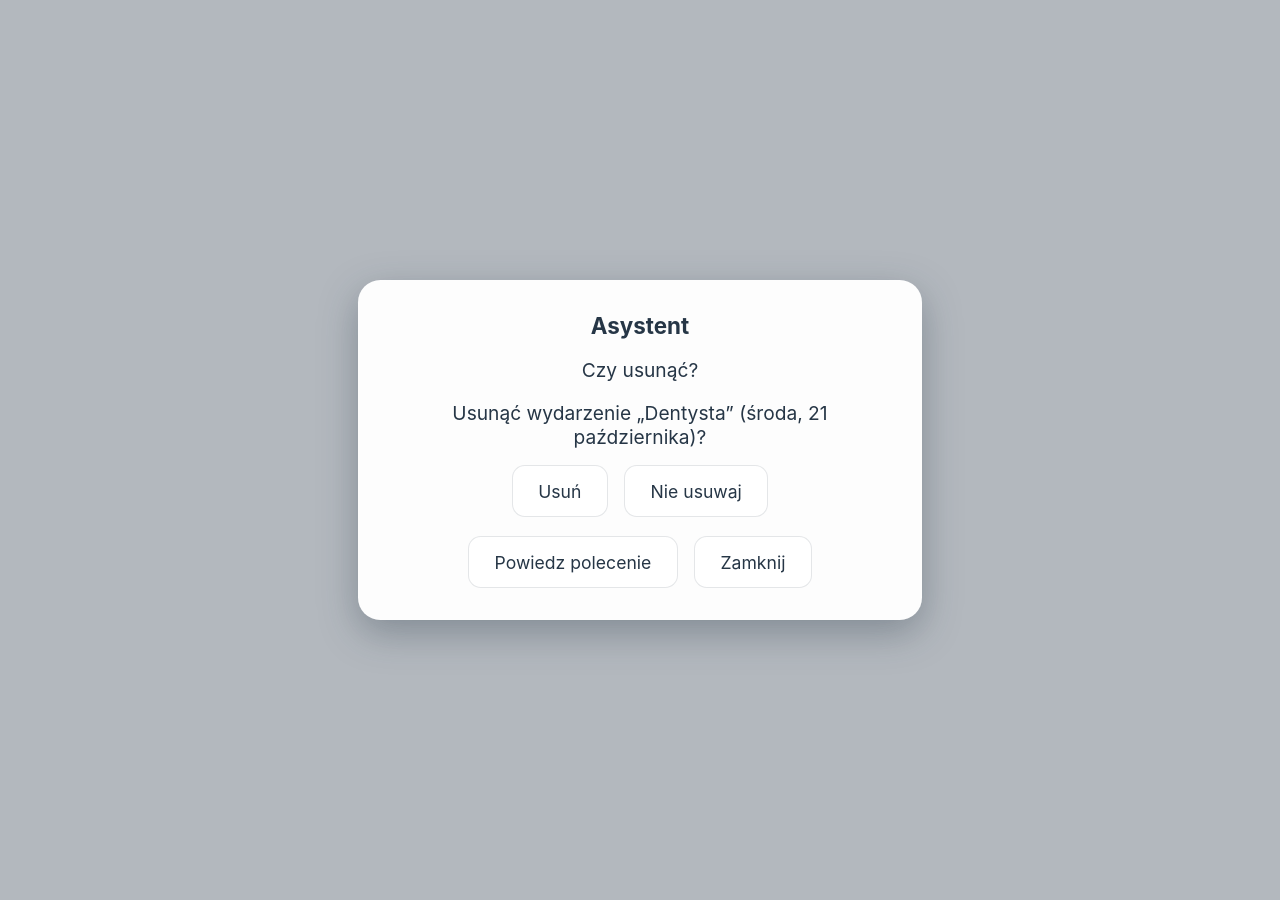
Test: AssistantDialog › keeps the event when "Nie usuwaj" is tapped
Click the button "Nie usuwaj" at (696, 491), box [624,465,768,517]
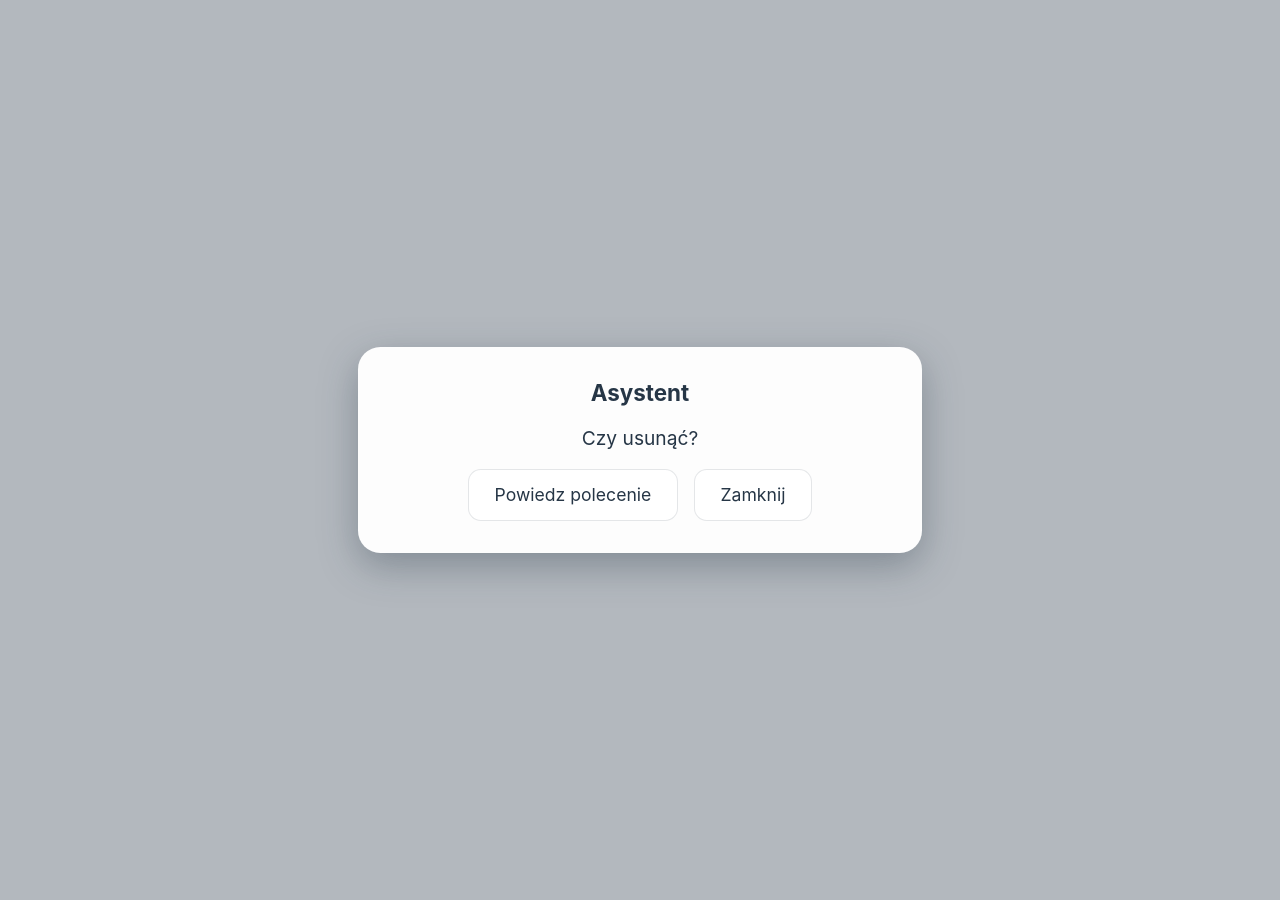
Check: the text "Usunąć wydarzenie" is gone
